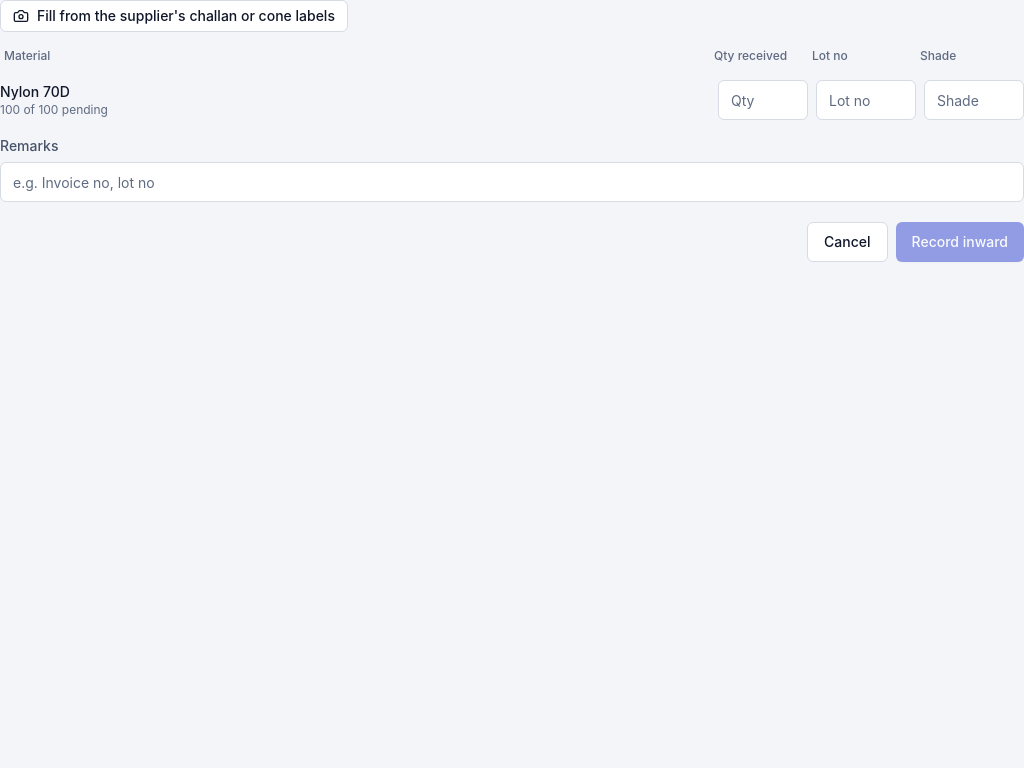
Scenario: recording an inward that exceeds the order › raises the dialog past the tolerance rather than disabling the button
The width and height of the screenshot is (1024, 768).
Type "130" into the number field named "Quantity received for Nylon 70D".
click(763, 100); type("130")  # box 718,80 -> 808,120
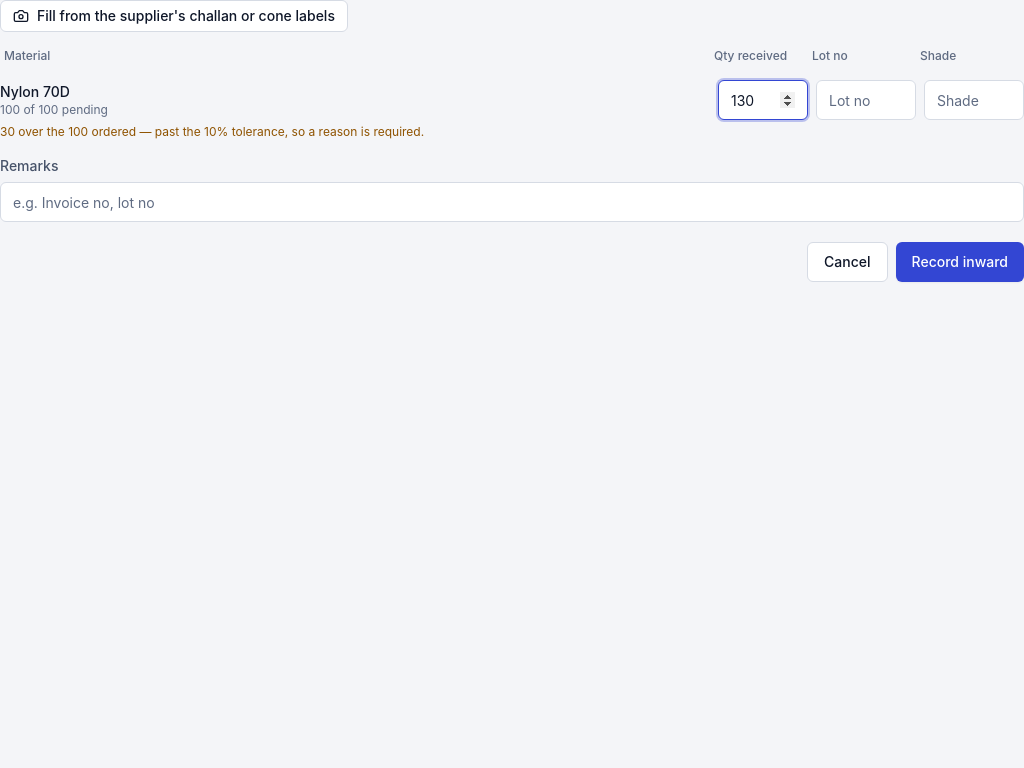
Expected: the button "Record inward" is enabled
Click the button "Record inward".
click(960, 262)  # box 896,242 -> 1023,282
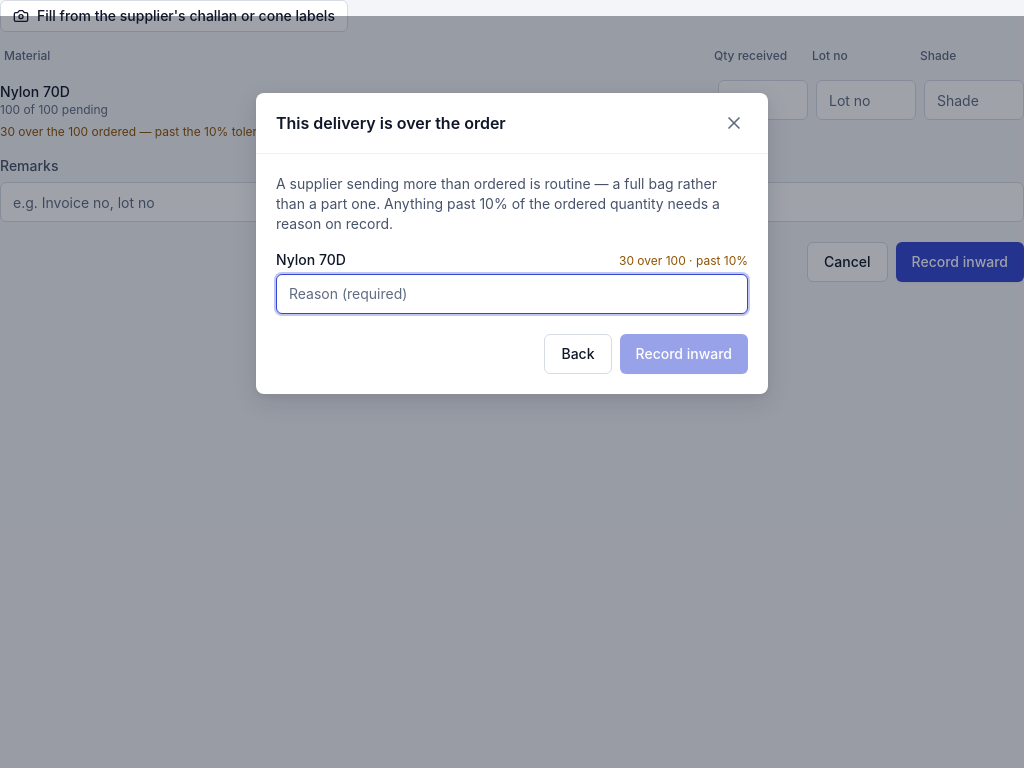
Expected: the heading "This delivery is over the order" is shown, 276,111 -> 506,135
